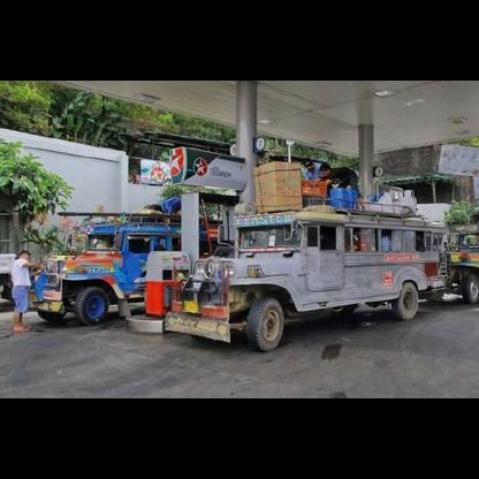jeepney: (177, 208, 438, 334), (38, 217, 179, 321)
